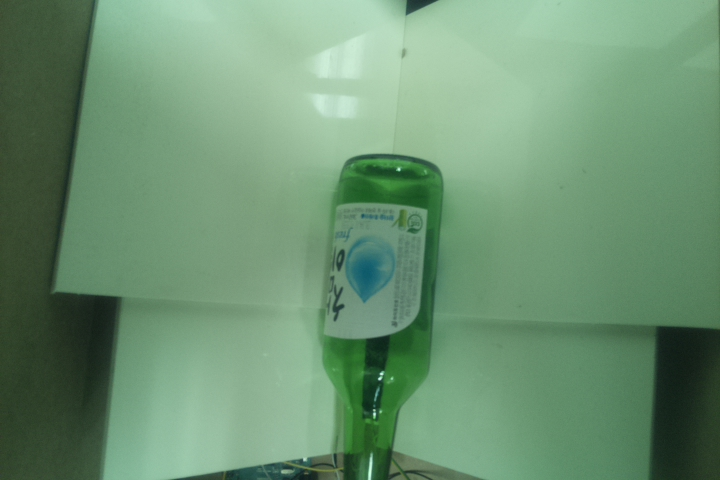soju: (317, 152, 446, 480)
